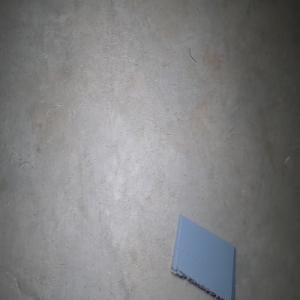PlasticPart: (170, 213, 236, 300)
